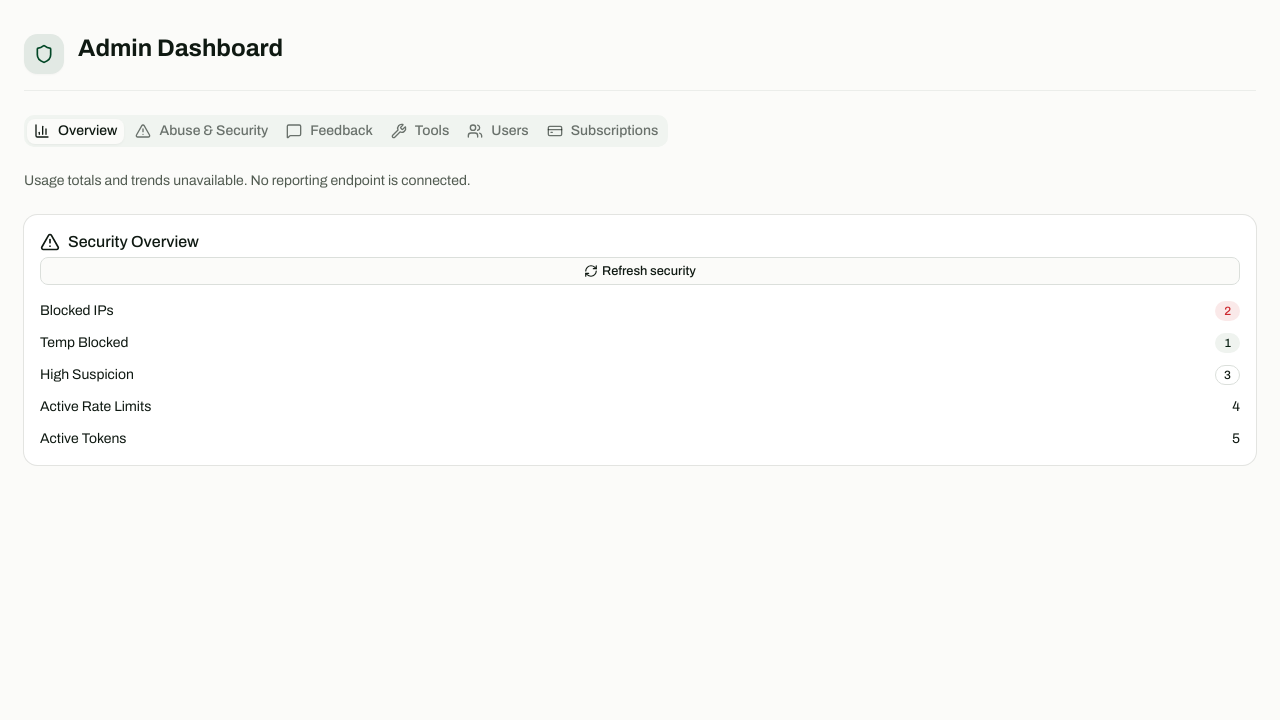
it: truthful admin dashboard › unblocks using the real action and refreshes server security data
Expected: the text "Active Tokens" is shown, [40,429,126,449]
Click the tab "Abuse & Security": click(202, 131) [128,118,275,144]
(page scrolled)
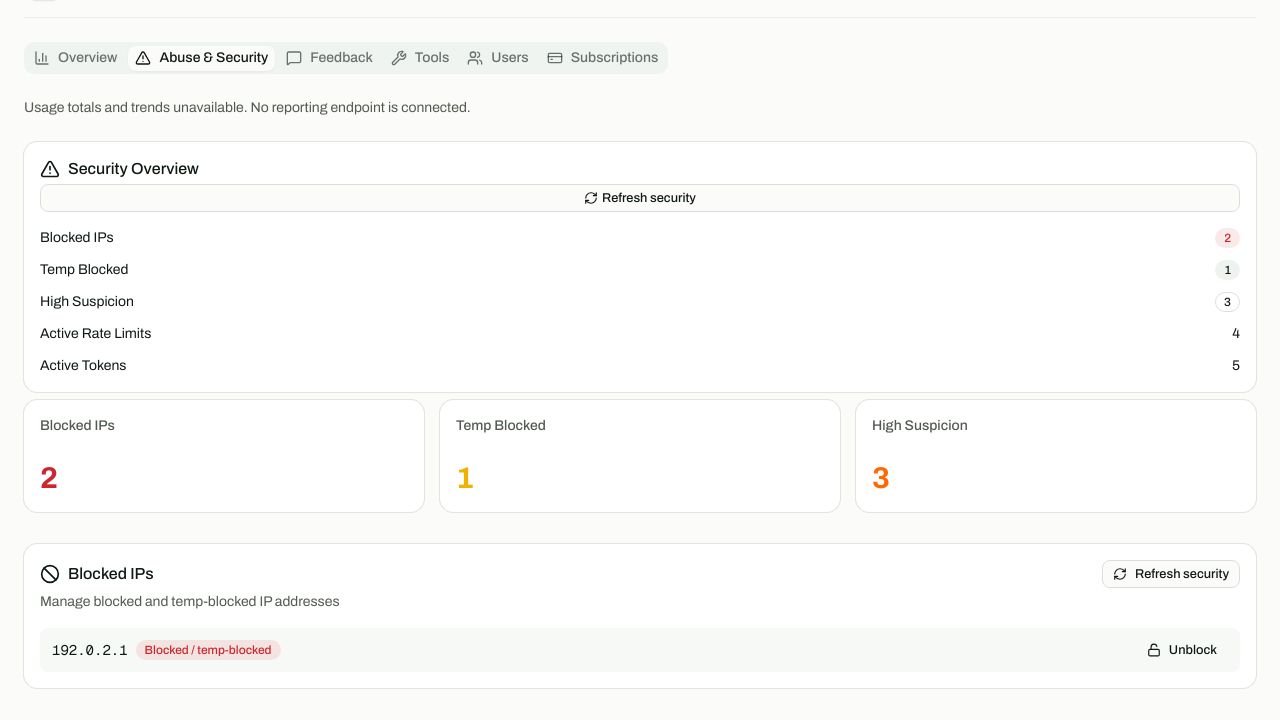
Click the button "Unblock": click(1182, 650) [1136,636,1228,664]
(page scrolled)
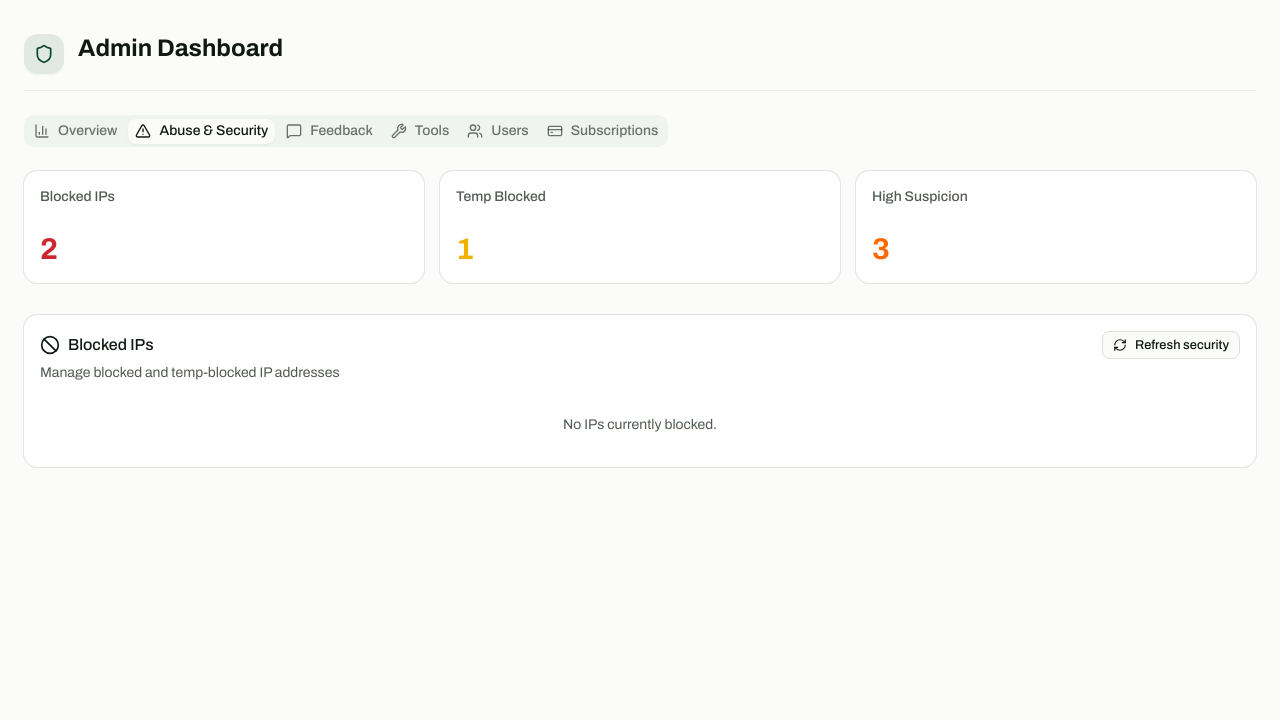
Expected: the text "No IPs currently blocked." is shown, [563,417,717,432]
